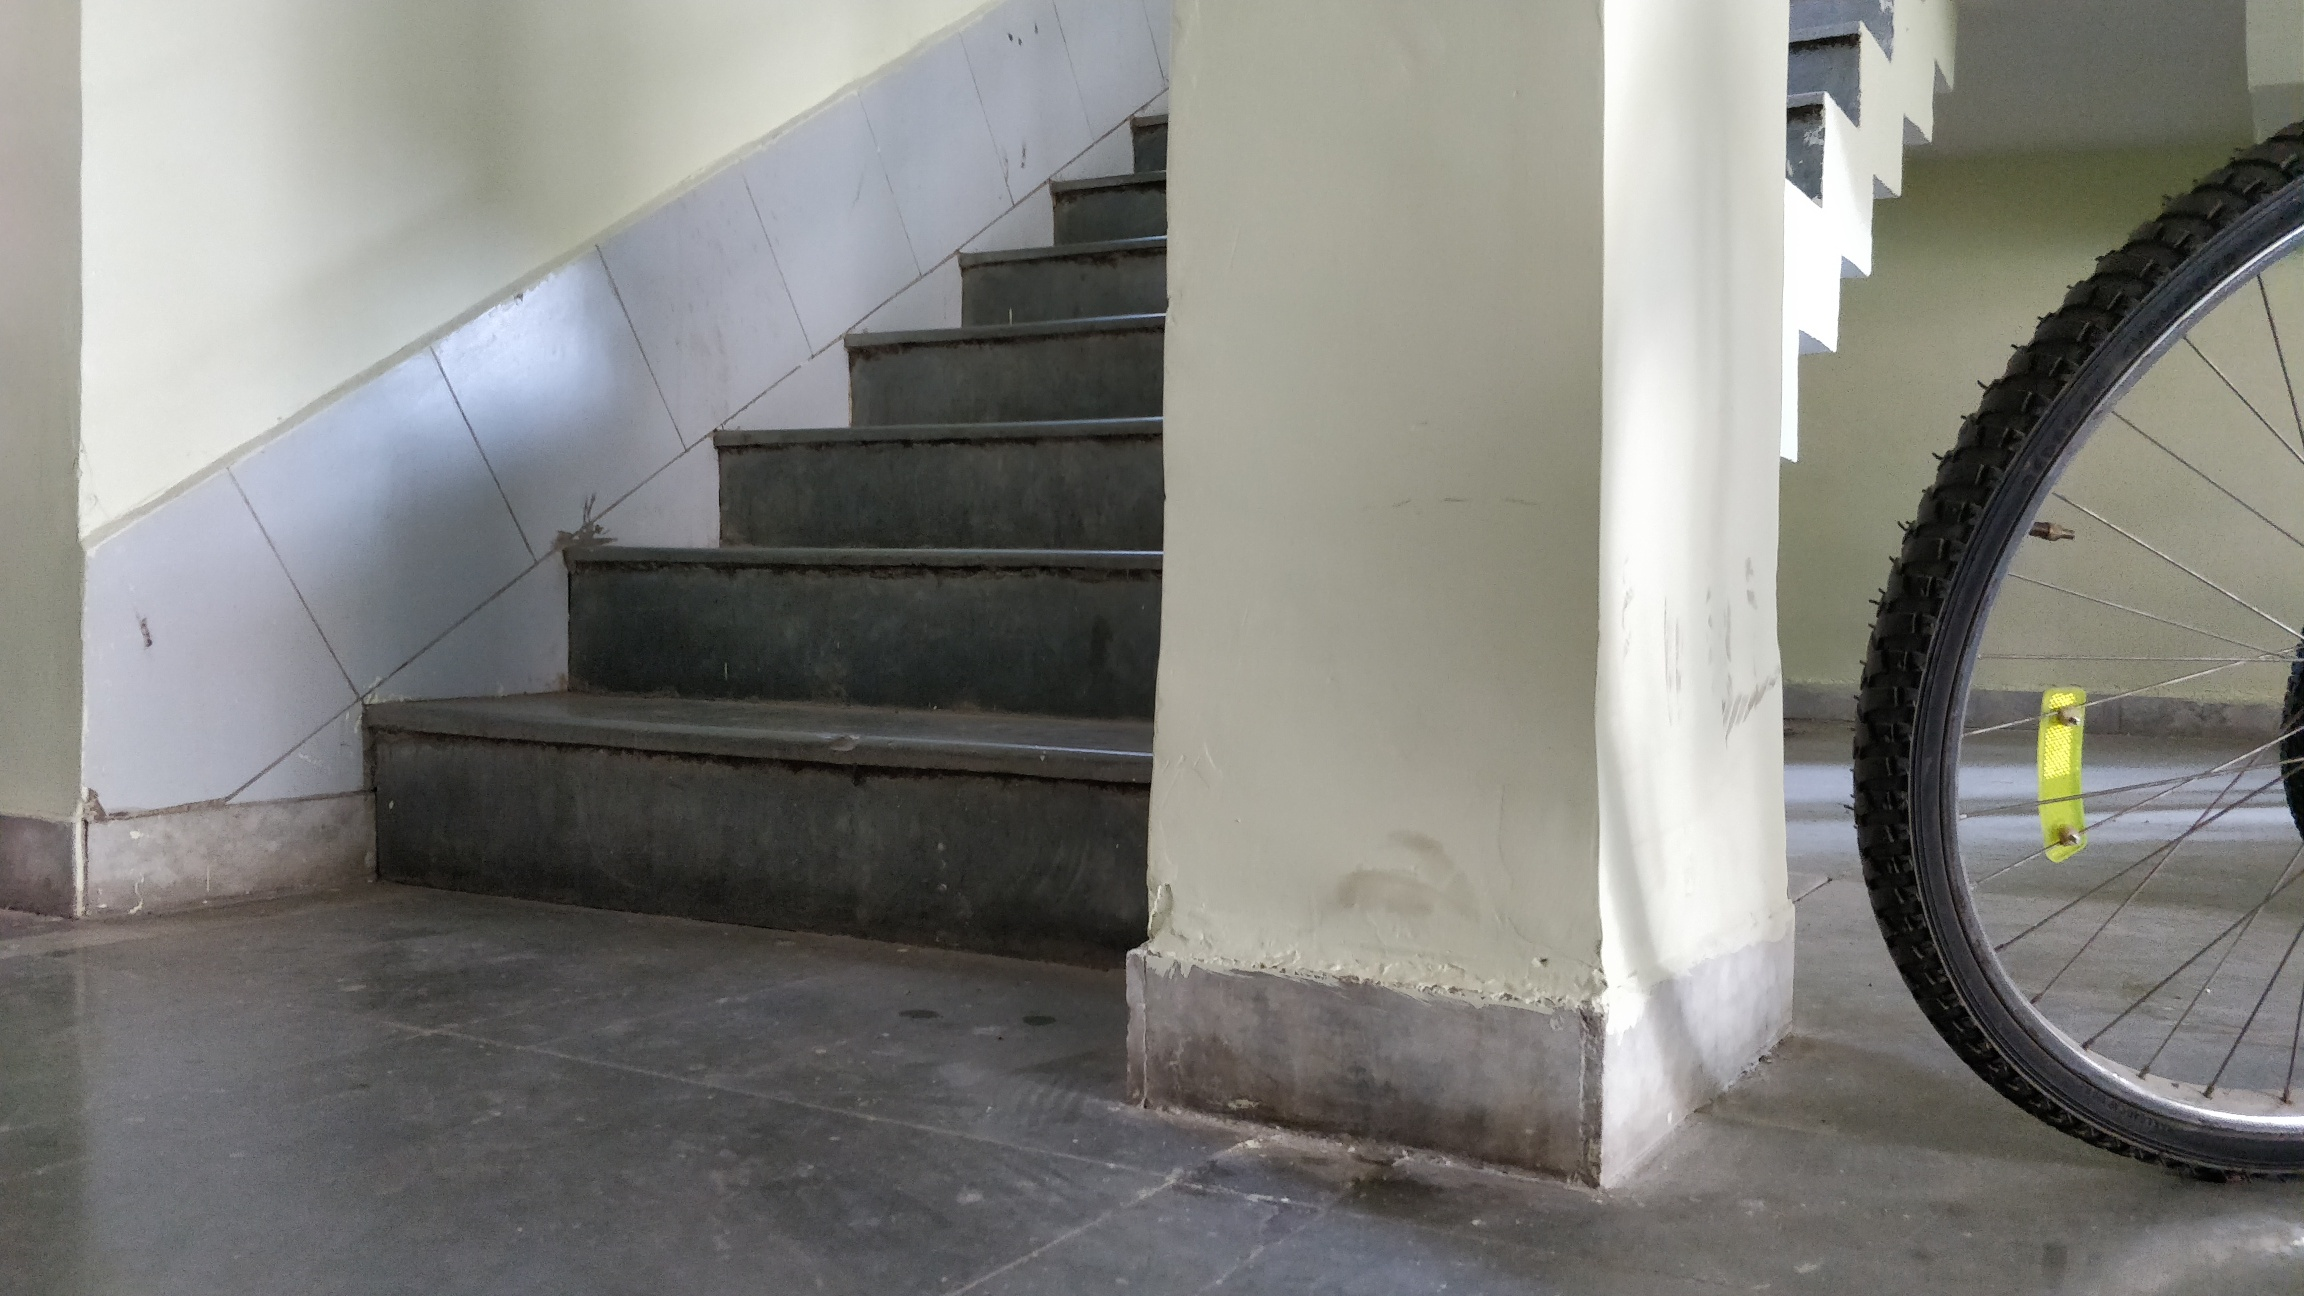stairs_up: (310, 104, 1166, 968)
